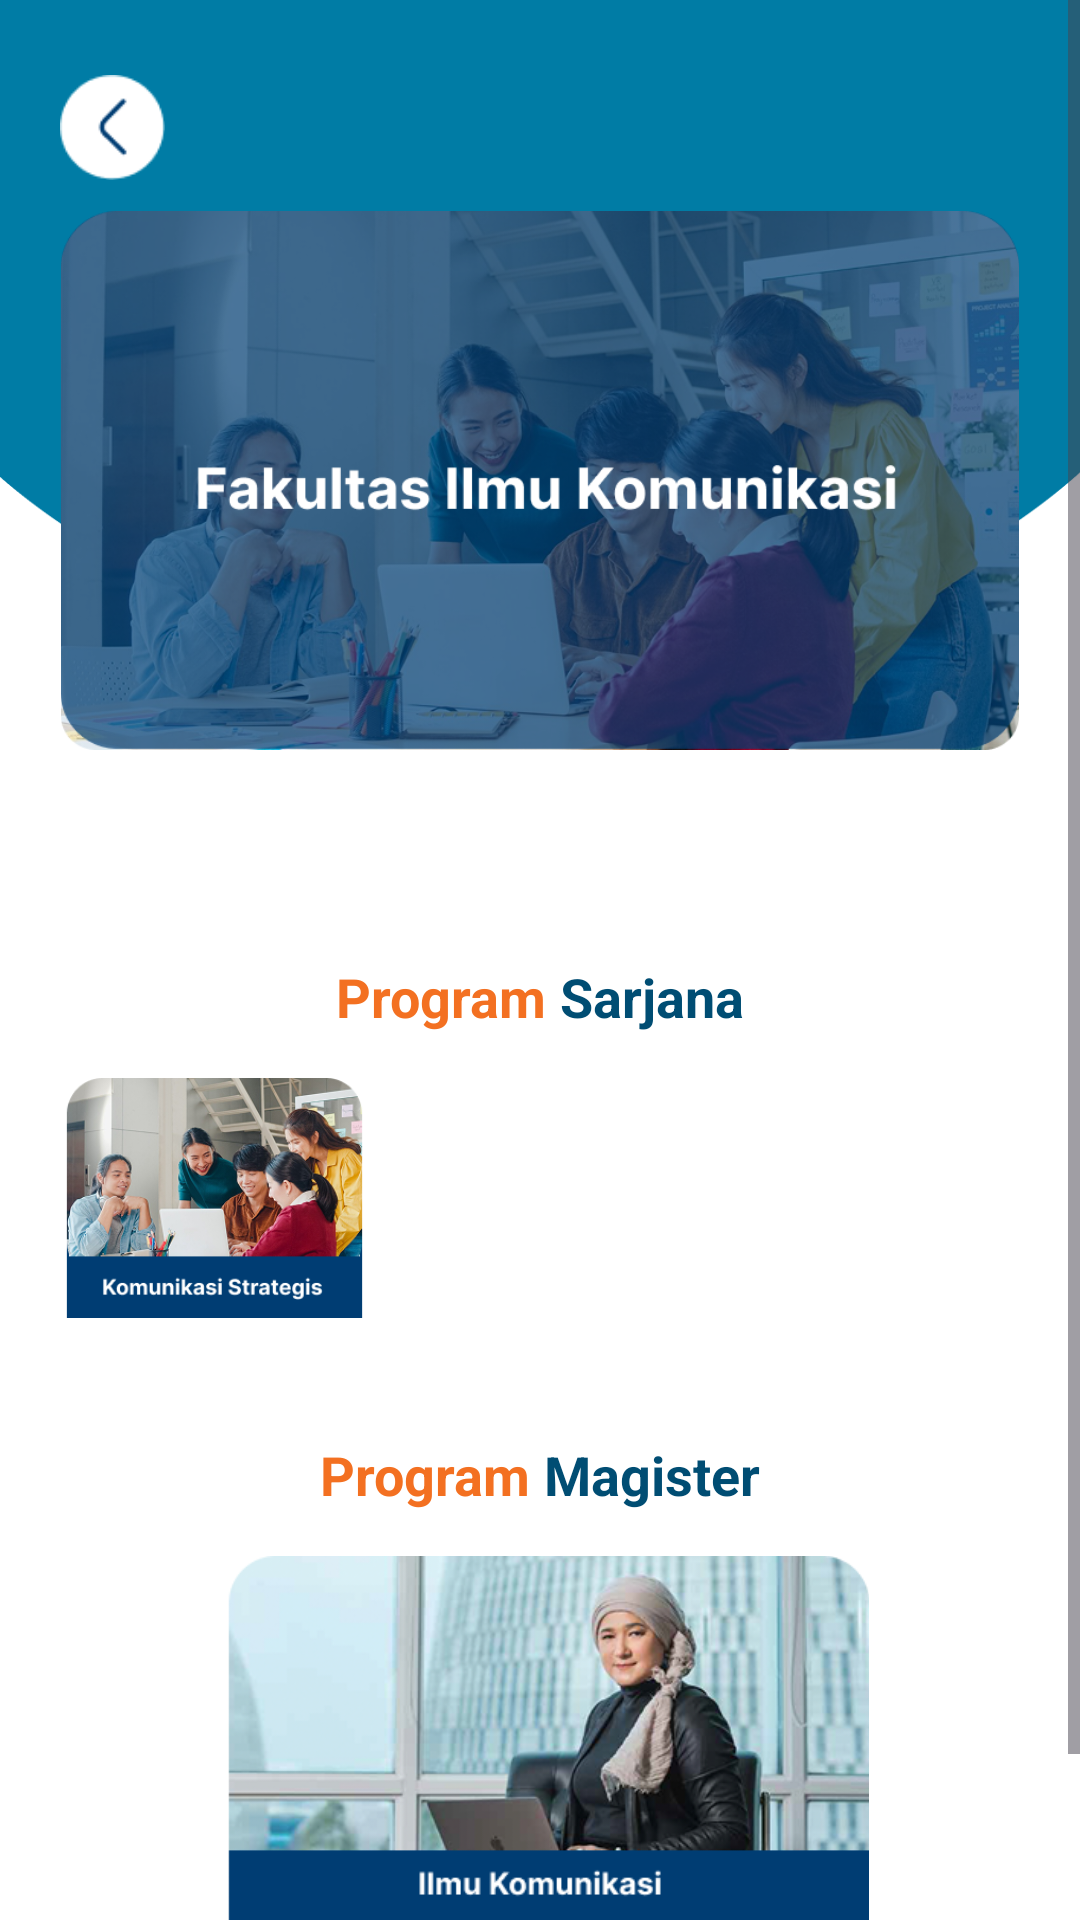

Screen size 1080 × 1920. Icon name, then its box in pixels as (x1, y1, x2, y2):
back: (60, 75, 165, 180)
